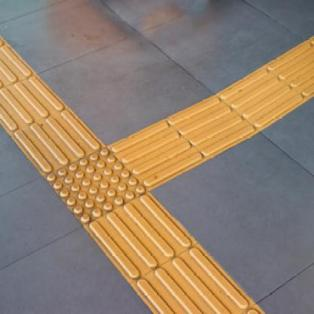Podoctatil: (1, 9, 314, 314)
